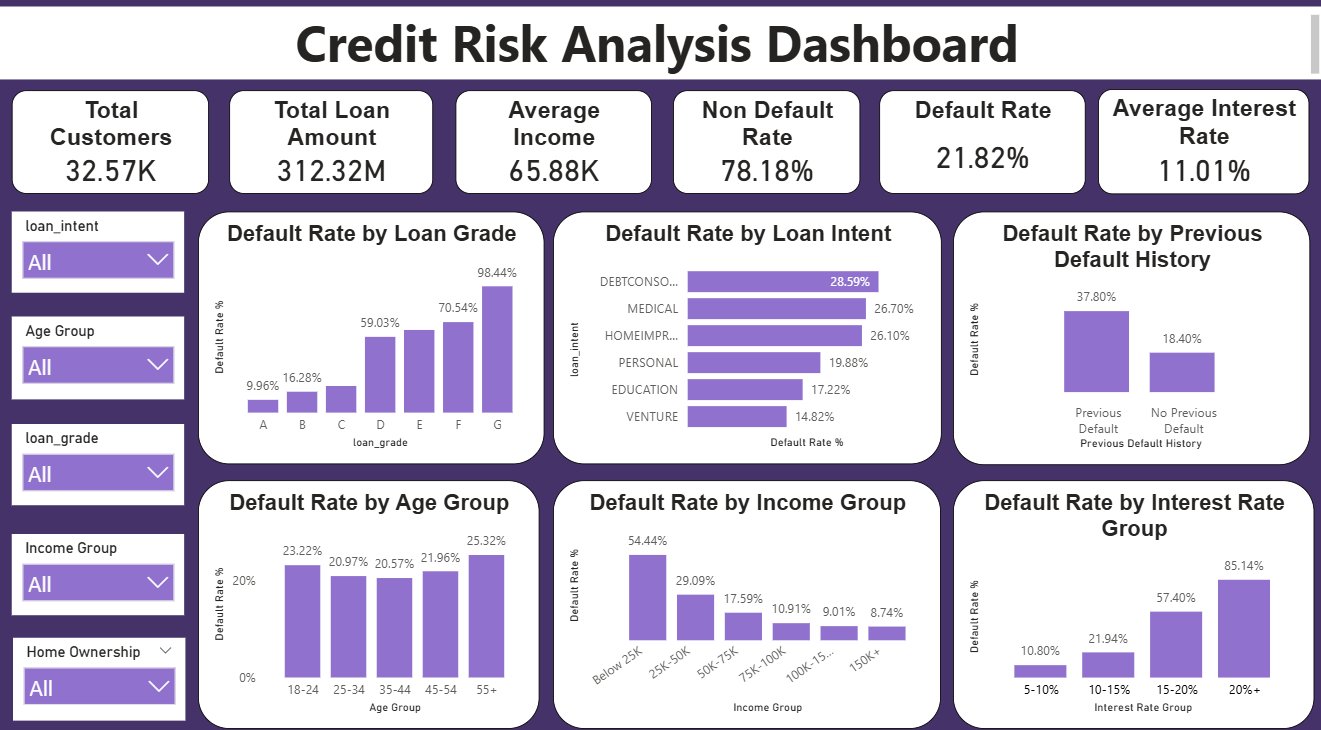

The page's visual inventory and layout, read from the dashboard file:
{"tool":"powerbi","page":{"name":"Page 1","canvas":[1280,720],"ordinal":0},"visuals":[{"type":"clusteredColumnChart","title":"Default Rate  by Age Group","fields":{"Category":["credit_risk_dataset.Age Group"],"Y":["credit_risk_dataset.Default Rate %"]},"box":[192.7,469.7,329.3,240],"z":0},{"type":"clusteredColumnChart","title":"Default Rate by Previous Default History","fields":{"Y":["credit_risk_dataset.Default Rate %"],"Category":["credit_risk_dataset.Previous Default History"]},"box":[921.7,209.9,345,244.9],"z":1},{"type":"clusteredColumnChart","title":"Default Rate  by Interest Rate Group","fields":{"Category":["credit_risk_dataset.Interest Rate Group"],"Y":["credit_risk_dataset.Default Rate %"]},"box":[921.4,469.2,349.2,240],"z":2},{"type":"columnChart","title":"Default Rate  by Income Group","fields":{"Category":["credit_risk_dataset.Income Group"],"Y":["credit_risk_dataset.Default Rate %"]},"box":[535.9,469.2,374.6,240],"z":3},{"type":"clusteredColumnChart","title":"Default Rate by Loan Grade","fields":{"Category":["credit_risk_dataset.loan_grade"],"Y":["credit_risk_dataset.Default Rate %"]},"box":[193,209.9,334.2,243.7],"z":6},{"type":"textbox","box":[0,12.1,1280.2,70.3],"z":7},{"type":"clusteredBarChart","title":"Default Rate by Loan Intent","fields":{"Category":["credit_risk_dataset.loan_intent"],"Y":["credit_risk_dataset.Default Rate %"]},"box":[535.7,209.9,375.2,243.7],"z":8},{"type":"card","title":"Default Rate","fields":{"Values":["credit_risk_dataset.Total Default Rate %"]},"box":[850.5,92.9,199.1,100.1],"z":10},{"type":"card","title":"Non Default Rate","fields":{"Values":["credit_risk_dataset.NoN Default Rate %"]},"box":[651.5,92.9,181,100.1],"z":11},{"type":"card","title":"Average Income","fields":{"Values":["Avg(credit_risk_dataset.person_income)"]},"box":[441.6,92.9,189.4,100.1],"z":12},{"type":"card","title":"Total Loan Amount","fields":{"Values":["Sum(credit_risk_dataset.loan_amnt)"]},"box":[223.2,92.9,196.6,100.1],"z":13},{"type":"card","title":"Average Interest Rate","fields":{"Values":["Avg(credit_risk_dataset.loan_int_rate)"]},"box":[1061.7,91.7,203.9,101.3],"z":14},{"type":"card","title":"Total Customers","fields":{"Values":["CountNonNull(credit_risk_dataset.person_age)"]},"box":[13.3,92.9,190.6,100.1],"z":15},{"type":"slicer","fields":{"Values":["credit_risk_dataset.loan_intent"]},"box":[13.3,209.9,166.5,78.4],"z":16},{"type":"slicer","fields":{"Values":["credit_risk_dataset.Age Group"]},"box":[13.3,311.3,166.5,79.6],"z":17},{"type":"slicer","fields":{"Values":["credit_risk_dataset.loan_grade"]},"box":[13.3,415,166.5,78.4],"z":18},{"type":"slicer","fields":{"Values":["credit_risk_dataset.Income Group"]},"box":[13.3,521.2,166.5,78.4],"z":19},{"type":"slicer","fields":{"Values":["credit_risk_dataset.person_home_ownership"]},"box":[14.5,621.3,166.5,79.6],"z":20}]}

Visuals, with their boxes in screenshot pixels (x1, y1, x2, y2), scaled from the page's 1280x720 canvas onto the 1321x730 screenshot:
"Default Rate  by Age Group" clusteredColumnChart: x1=199, y1=476, x2=539, y2=720
"Default Rate by Previous Default History" clusteredColumnChart: x1=951, y1=213, x2=1307, y2=461
"Default Rate  by Interest Rate Group" clusteredColumnChart: x1=951, y1=476, x2=1311, y2=719
"Default Rate  by Income Group" columnChart: x1=553, y1=476, x2=940, y2=719
"Default Rate by Loan Grade" clusteredColumnChart: x1=199, y1=213, x2=544, y2=460
textbox: x1=0, y1=12, x2=1320, y2=84
"Default Rate by Loan Intent" clusteredBarChart: x1=553, y1=213, x2=940, y2=460
"Default Rate" card: x1=878, y1=94, x2=1083, y2=196
"Non Default Rate" card: x1=672, y1=94, x2=859, y2=196
"Average Income" card: x1=456, y1=94, x2=651, y2=196
"Total Loan Amount" card: x1=230, y1=94, x2=433, y2=196
"Average Interest Rate" card: x1=1096, y1=93, x2=1306, y2=196
"Total Customers" card: x1=14, y1=94, x2=210, y2=196
slicer - credit_risk_dataset.loan_intent: x1=14, y1=213, x2=186, y2=292
slicer - credit_risk_dataset.Age Group: x1=14, y1=316, x2=186, y2=396
slicer - credit_risk_dataset.loan_grade: x1=14, y1=421, x2=186, y2=500
slicer - credit_risk_dataset.Income Group: x1=14, y1=528, x2=186, y2=608
slicer - credit_risk_dataset.person_home_ownership: x1=15, y1=630, x2=187, y2=711
